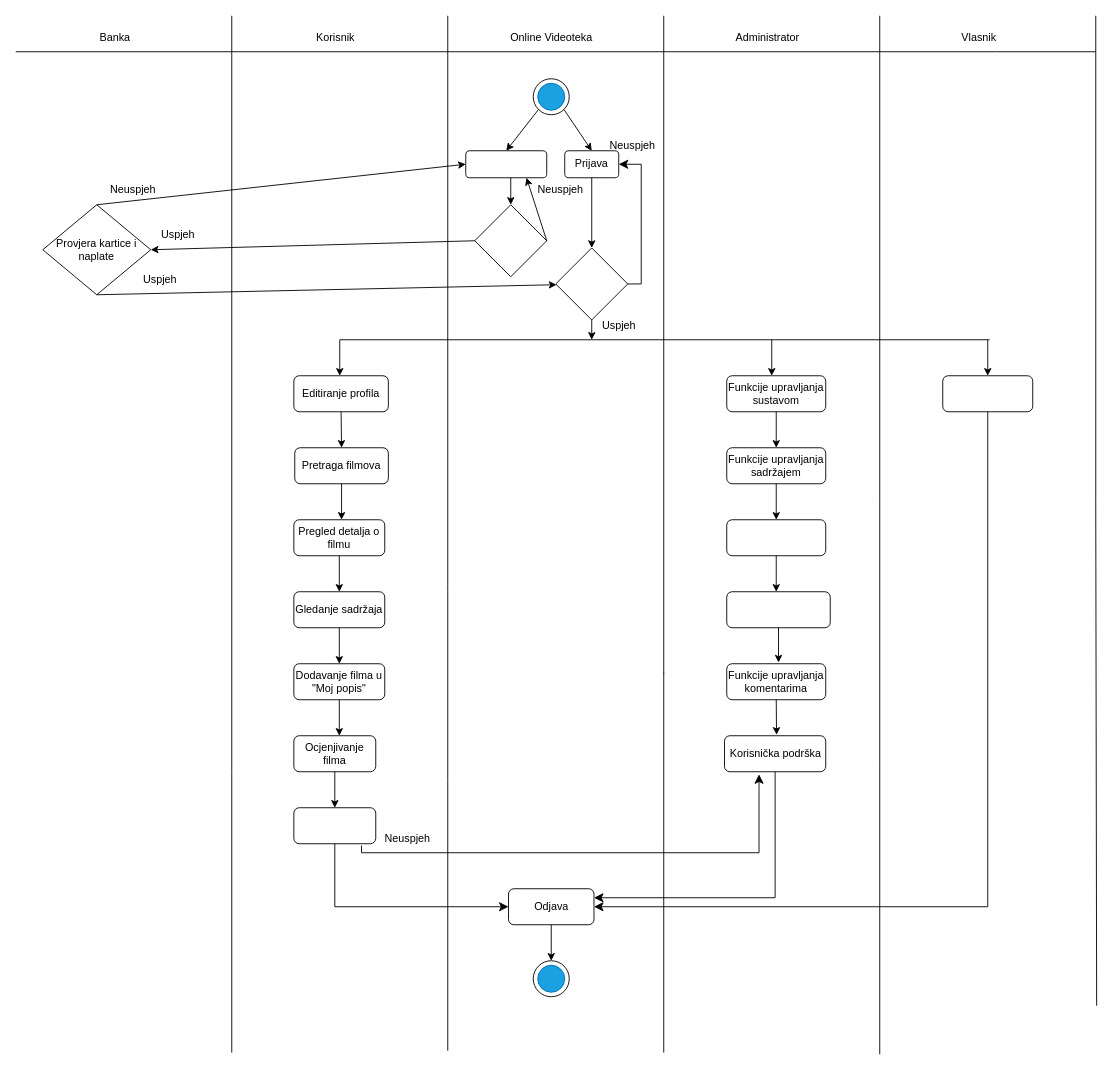
The diagram is 1113 pixels wide and 1071 high, and some of its shapes have lost their labels. Here are the shapes that lost their labels. From the top down, the centre of each, then its label:
At (506,164): "Registracija".
At (510,240): "Odabir pretplate".
At (591,283): "Provjera podataka".
At (987,393): "Pregled izvještaja".
At (776,537): "Funkcije upravljanja korisnicima".
At (778,609): "Funkcije upravljanja recenzijama".
At (334,825): "Komentiranje".
